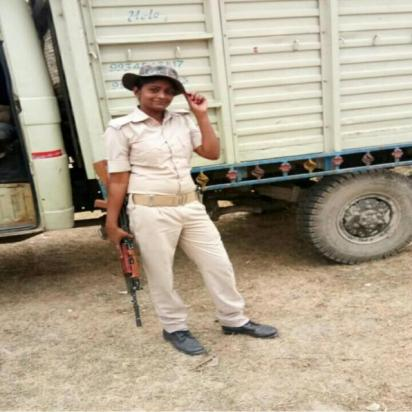Gun: (90, 158, 144, 328)
